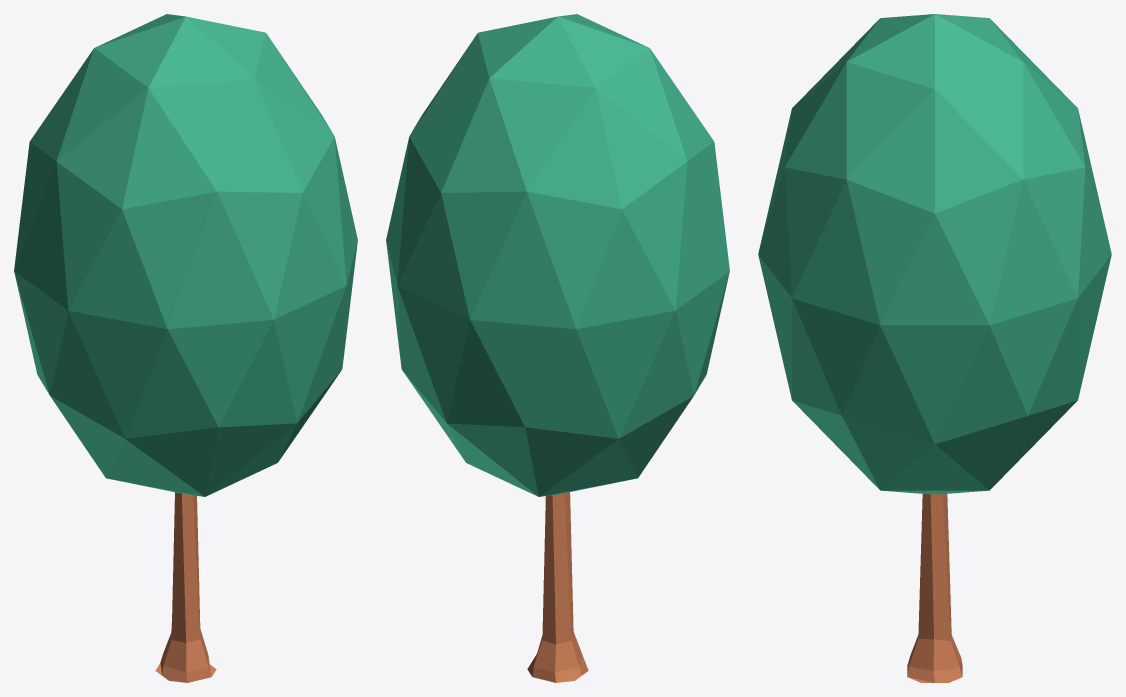
The model's file is tree_1.fbx.
3 renders of one model, left to right at view 1: azimuth 30°, elevation 25°; view 2: azimuth 150°, elevation 25°; view 3: azimuth 270°, elevation 25°, orthographic.
Visible parts, largest first — view 1: tree_1; view 2: tree_1; view 3: tree_1.
Boxes of the visible parts, x1,y1,x2,y2 form: tree_1: (14,14,357,682); tree_1: (386,14,729,682); tree_1: (758,14,1111,682).
Size of the model in its own units: 38.04 by 82.03 by 40.
